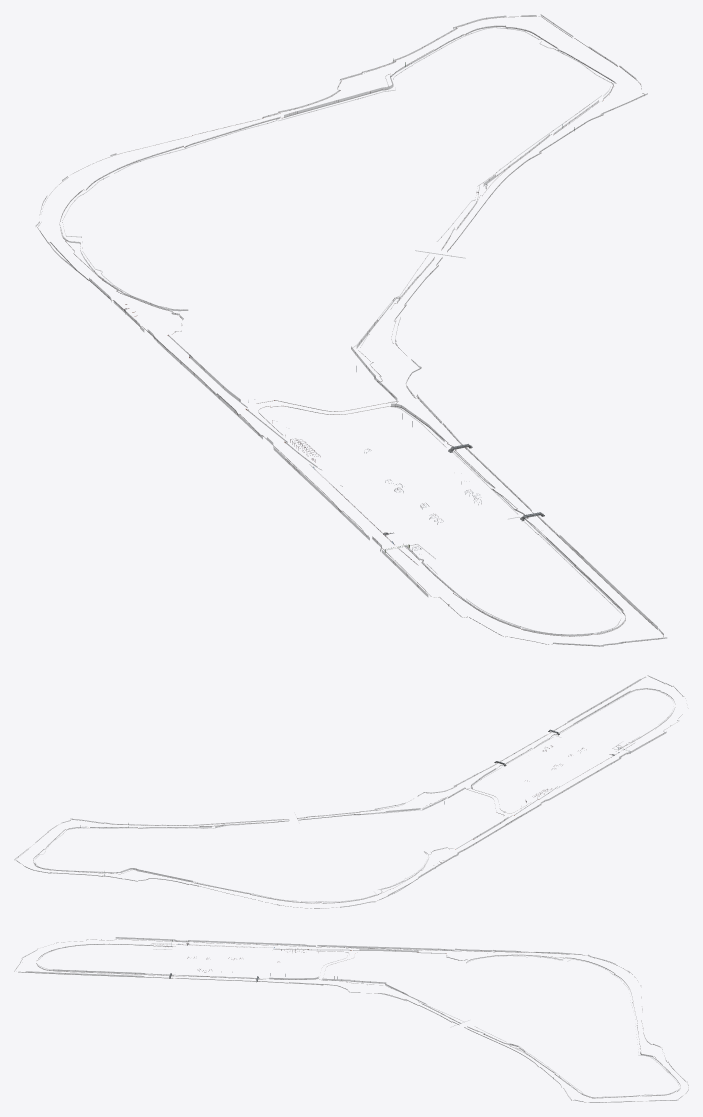
The model's file is boundaries.glb.
3 renders of one model, top to bottom at view 1: azimuth 30°, elevation 25°; view 2: azimuth 150°, elevation 25°; view 3: azimuth 270°, elevation 25°, orthographic. The views are drawn at different scales.
Parts seen in each view (by area): view 1: monza_2022.084, monza_2022.014; view 2: monza_2022.084, monza_2022.014; view 3: monza_2022.084, monza_2022.014.
Boxes of the visible parts, box(x1,y1,x2,y2) form: monza_2022.084: box(36, 14, 666, 646); monza_2022.014: box(37, 15, 663, 646); monza_2022.084: box(14, 675, 682, 908); monza_2022.014: box(15, 677, 688, 908); monza_2022.084: box(16, 937, 687, 1102); monza_2022.014: box(14, 938, 688, 1102).
Size of the model in its own units: 1319 by 20.52 by 2257.
Materials: 7 (7 with a texture image).
